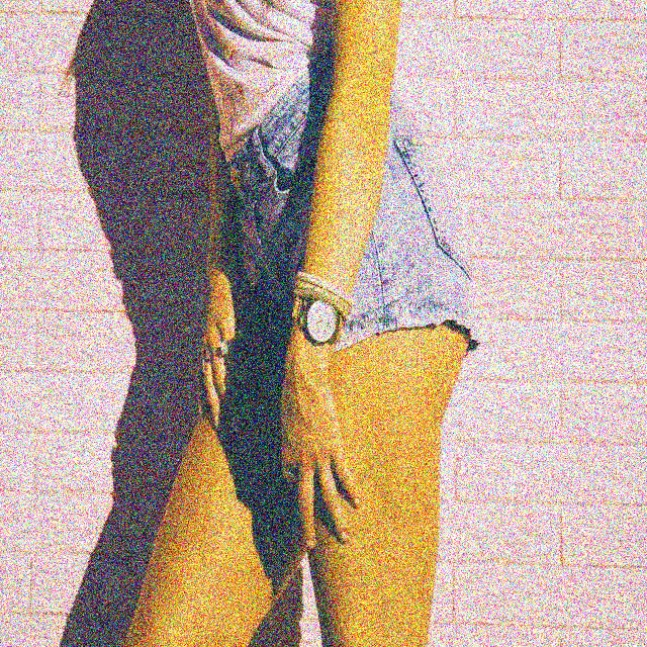Shorts: (227, 33, 482, 647)
